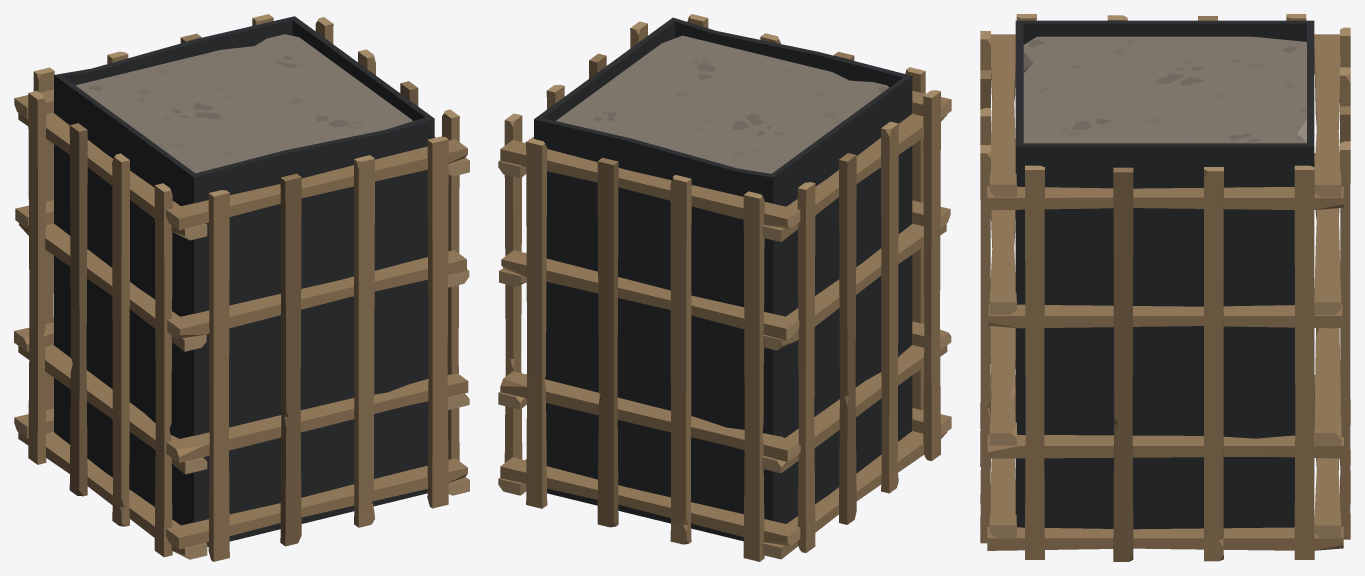
Rendered from SM_Bld_ConcreteFrame_Pillar_01.fbx.
3 views of the same model, side by side, from view 1: azimuth 30°, elevation 25°; view 2: azimuth 150°, elevation 25°; view 3: azimuth 270°, elevation 25° (orthographic). The views are drawn at different scales.
Visible parts, largest first — view 1: SM_Bld_ConcreteFrame_Pillar_01; view 2: SM_Bld_ConcreteFrame_Pillar_01; view 3: SM_Bld_ConcreteFrame_Pillar_01.
Boxes of the visible parts, x1,y1,x2,y2 form: SM_Bld_ConcreteFrame_Pillar_01: (14,14,469,561); SM_Bld_ConcreteFrame_Pillar_01: (498,14,951,561); SM_Bld_ConcreteFrame_Pillar_01: (980,14,1350,561).
Bounding box in the file's own units: 261 × 313 × 261.
